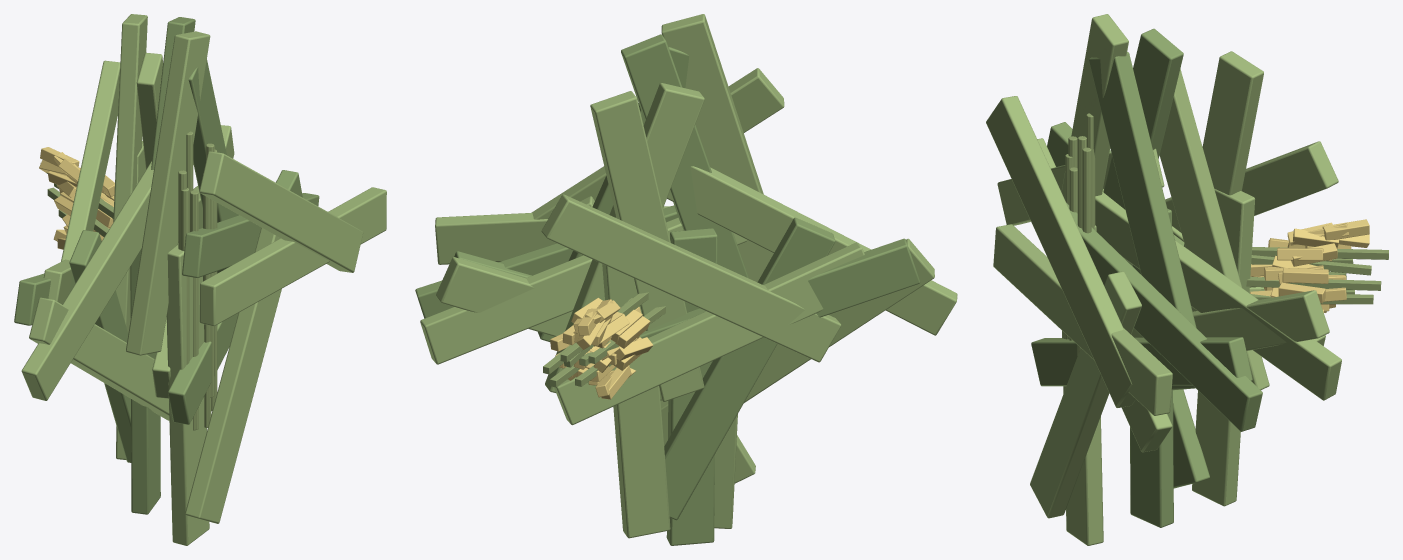
The model's file is fieldvision-rice-cluster.glb.
3 renders of one model, left to right at view 1: azimuth 30°, elevation 25°; view 2: azimuth 150°, elevation 25°; view 3: azimuth 270°, elevation 25°, orthographic. The views are drawn at different scales.
Parts seen in each view (by area): view 1: Leaf_2_0, Leaf_6_0, Leaf_3_0, Leaf_1_0, Leaf_0_0, Leaf_5_0, Leaf_4_0, Leaf_6_2, Leaf_0_2, Leaf_4_1, Leaf_6_1, Leaf_5_1 (+13 smaller); view 2: Leaf_0_2, Leaf_3_1, Leaf_1_2, Leaf_6_2, Leaf_2_2, Leaf_3_0, Leaf_2_0, Leaf_4_2, Leaf_1_1, Leaf_5_2, Leaf_2_1, Leaf_0_0 (+8 smaller); view 3: Leaf_1_0, Leaf_0_1, Leaf_6_1, Leaf_6_0, Leaf_4_2, Leaf_5_2, Leaf_0_0, Leaf_6_2, Leaf_2_2, Leaf_3_2, Leaf_0_2, Leaf_1_1 (+19 smaller).
Part boxes in pixels (x1,y1,x2,y2): Leaf_2_0: [126, 31, 210, 355]; Leaf_6_0: [185, 227, 281, 523]; Leaf_3_0: [21, 161, 193, 400]; Leaf_1_0: [199, 151, 363, 272]; Leaf_0_0: [199, 187, 386, 326]; Leaf_5_0: [166, 243, 209, 545]; Leaf_4_0: [29, 297, 169, 420]; Leaf_6_2: [113, 14, 147, 332]; Leaf_0_2: [61, 60, 120, 261]; Leaf_4_1: [130, 249, 160, 514]; Leaf_6_1: [182, 193, 319, 277]; Leaf_5_1: [168, 170, 302, 424]; Leaf_0_2: [541, 194, 841, 362]; Leaf_3_1: [664, 217, 835, 520]; Leaf_1_2: [554, 242, 864, 425]; Leaf_6_2: [590, 91, 704, 401]; Leaf_2_2: [602, 264, 670, 538]; Leaf_3_0: [667, 166, 957, 335]; Leaf_2_0: [661, 14, 773, 282]; Leaf_4_2: [420, 217, 747, 364]; Leaf_1_1: [621, 34, 748, 278]; Leaf_5_2: [545, 83, 704, 392]; Leaf_2_1: [639, 238, 920, 338]; Leaf_0_0: [435, 206, 671, 264]; Leaf_1_0: [986, 96, 1135, 407]; Leaf_0_1: [1088, 52, 1196, 390]; Leaf_6_1: [1066, 202, 1262, 431]; Leaf_6_0: [1030, 271, 1141, 518]; Leaf_4_2: [1095, 189, 1341, 400]; Leaf_5_2: [1159, 69, 1269, 389]; Leaf_0_0: [993, 224, 1172, 415]; Leaf_6_2: [1184, 51, 1263, 311]; Leaf_2_2: [1192, 189, 1255, 506]; Leaf_3_2: [1131, 290, 1329, 350]; Leaf_0_2: [1165, 141, 1338, 232]; Leaf_1_1: [1103, 28, 1183, 266].
Size of the model in its own units: 2.76 by 3.01 by 2.11.
